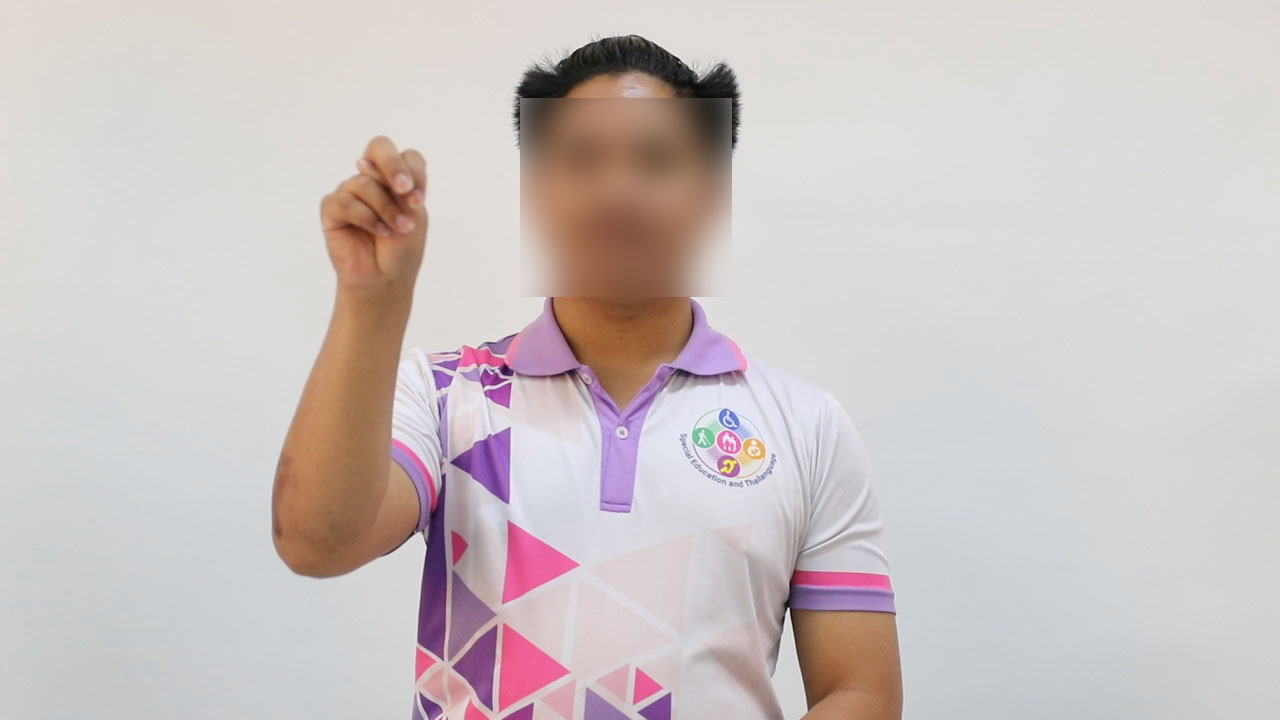nor: (316, 123, 434, 288)
